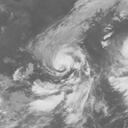cyclone: (36, 38, 88, 78)
